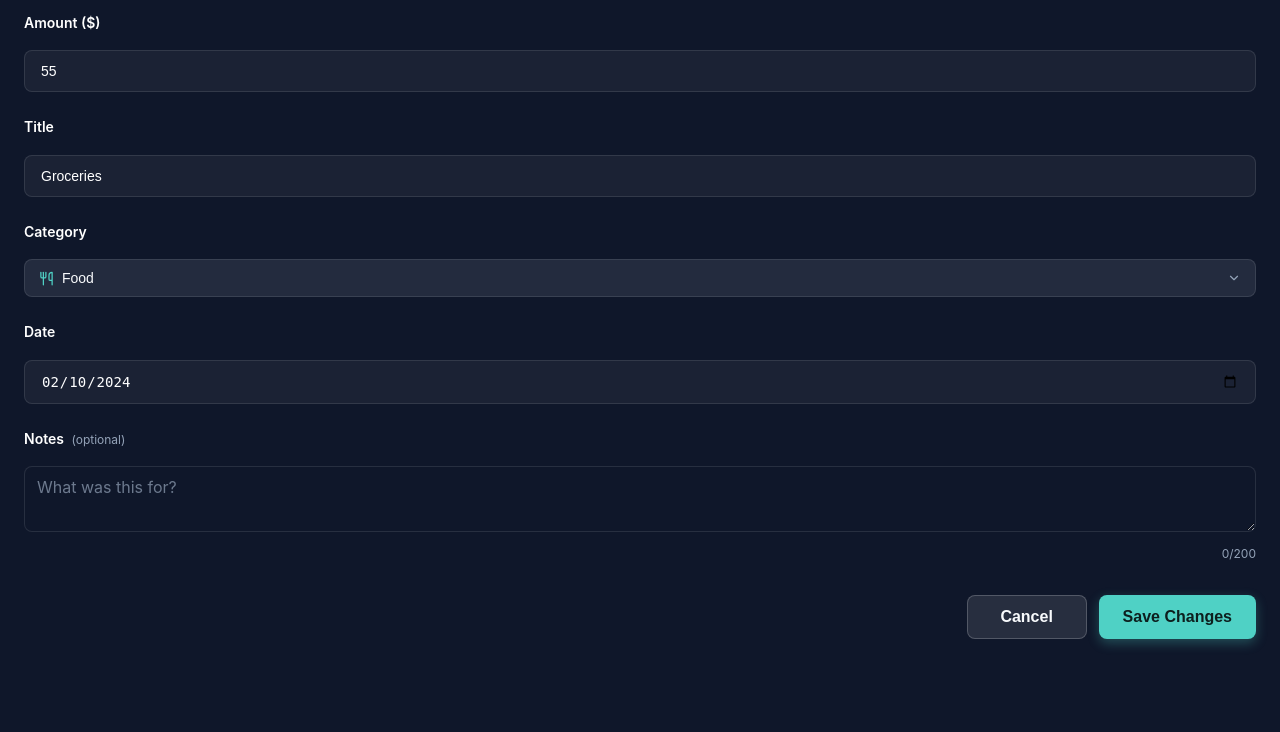
Test: ExpenseForm component › handles cancel action
Step 1. Replace the text in the field labelled "Title" with "Changed" → (640, 176), box [24, 155, 1256, 197]
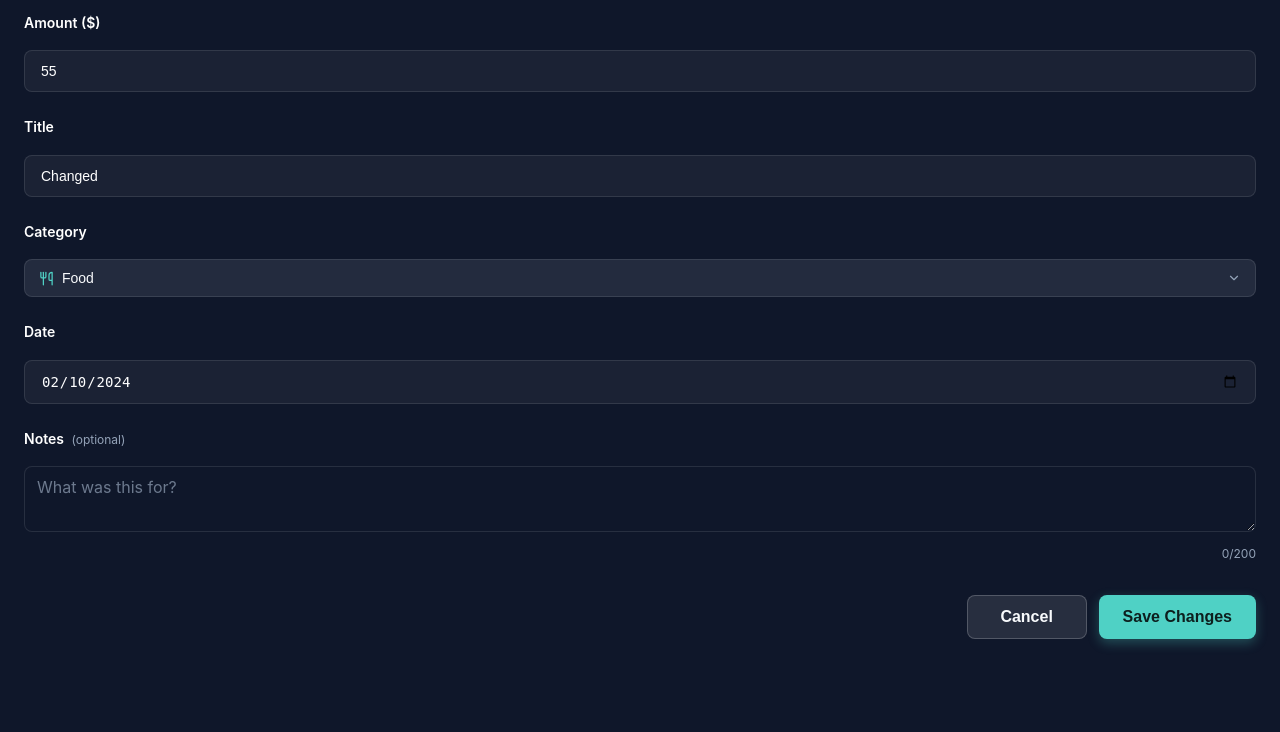
Step 2. Click the button "Cancel" → (1027, 617), box [967, 595, 1087, 639]
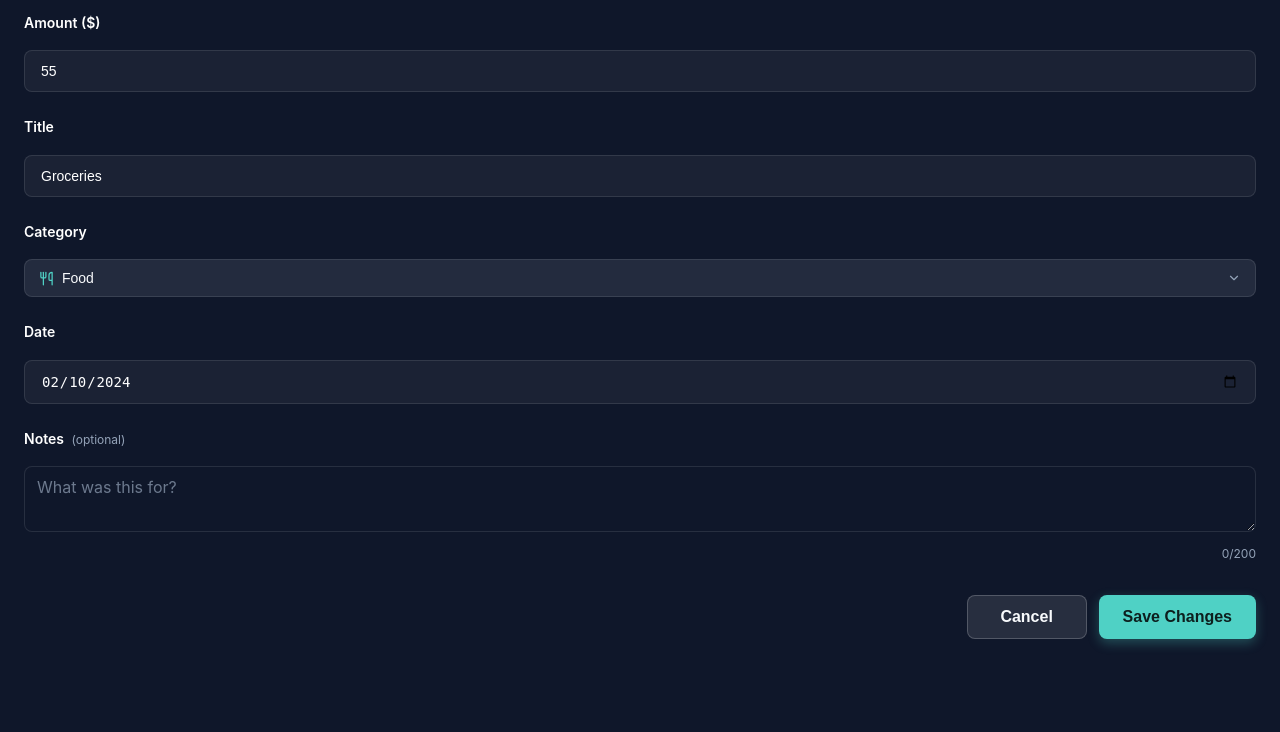
Now the field labelled "Title" holds "Groceries", box [24, 155, 1256, 197]
